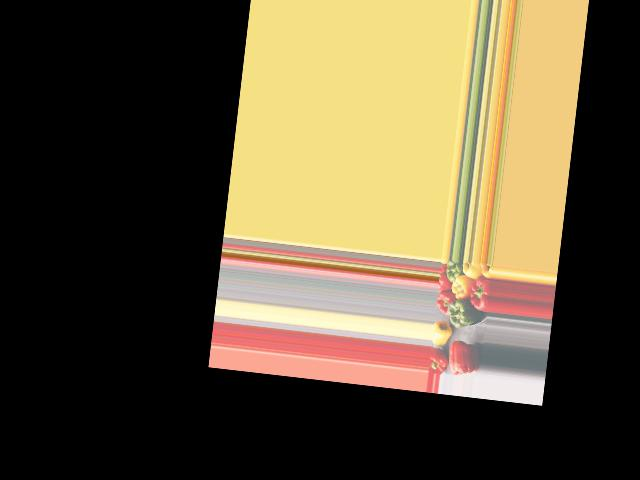bell_pepper: (430, 347, 448, 375)
